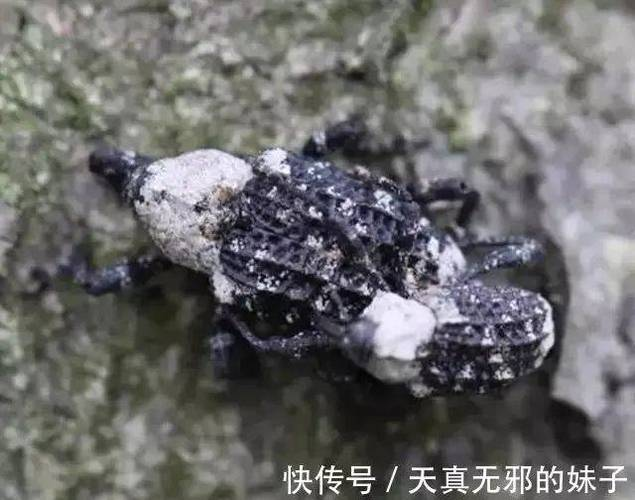Curculionidae: (53, 119, 477, 421), (303, 235, 555, 404)
